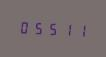five: (32, 18, 45, 36), (46, 19, 59, 37)
one: (60, 20, 73, 38), (74, 21, 87, 38)
zero: (18, 18, 31, 35)
